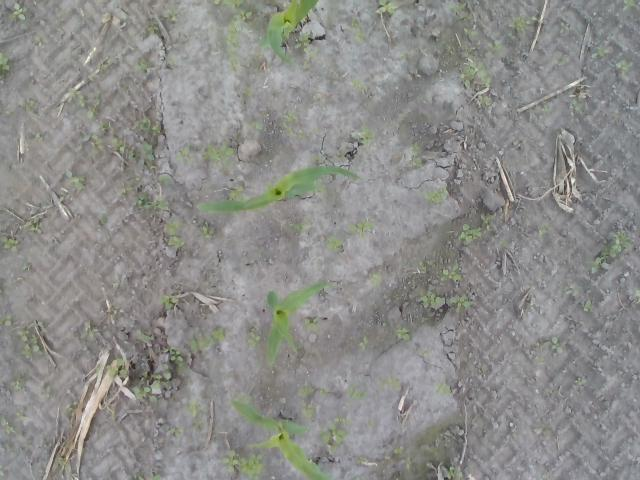Maize: (232, 397, 334, 480), (195, 167, 358, 214), (264, 279, 334, 369), (256, 0, 319, 65)
Weeds: (590, 232, 634, 272), (225, 9, 252, 71), (460, 58, 491, 106), (416, 288, 472, 312), (16, 320, 49, 360), (222, 449, 264, 480), (320, 417, 351, 456), (68, 86, 102, 120), (203, 142, 240, 167), (190, 326, 225, 352), (78, 130, 105, 160), (0, 410, 32, 434), (183, 400, 208, 430), (135, 192, 172, 212), (294, 30, 320, 58), (298, 384, 318, 418), (430, 263, 464, 282), (62, 168, 87, 193), (346, 216, 374, 237), (163, 220, 184, 248), (118, 176, 142, 200), (113, 134, 134, 161), (420, 184, 448, 204), (242, 110, 270, 130), (7, 1, 29, 25), (104, 355, 128, 377), (286, 111, 304, 138), (351, 126, 378, 144), (152, 364, 172, 388), (374, 373, 402, 390), (0, 48, 14, 80), (351, 16, 367, 44), (512, 15, 537, 32), (487, 31, 512, 48), (134, 118, 160, 134), (168, 346, 186, 369), (448, 3, 472, 20), (348, 382, 369, 401), (176, 142, 197, 161), (608, 58, 636, 72), (408, 142, 423, 168), (459, 223, 479, 241), (376, 0, 398, 16), (542, 335, 560, 354), (130, 383, 150, 400), (213, 0, 246, 10), (159, 292, 177, 310), (18, 96, 36, 114), (433, 382, 453, 398), (248, 326, 260, 352), (168, 423, 186, 440), (132, 56, 150, 73), (164, 0, 177, 23), (326, 234, 343, 250), (228, 184, 245, 200), (446, 465, 464, 480), (368, 270, 383, 288), (24, 217, 42, 232), (462, 27, 482, 40), (591, 47, 611, 60), (394, 324, 410, 340), (304, 317, 320, 333), (200, 224, 216, 240), (352, 78, 368, 94), (622, 0, 640, 14), (552, 52, 570, 66), (10, 374, 25, 390), (32, 32, 49, 46), (572, 96, 586, 113), (142, 144, 155, 162), (400, 455, 412, 474), (0, 313, 16, 327), (64, 400, 78, 416), (136, 328, 153, 341), (238, 392, 256, 404), (356, 334, 368, 352), (146, 19, 160, 34), (481, 212, 496, 226), (2, 236, 17, 250), (290, 222, 306, 234), (98, 119, 112, 132), (350, 471, 370, 480), (157, 174, 169, 186), (418, 258, 428, 272), (82, 326, 96, 336), (495, 239, 512, 247), (96, 63, 109, 73), (573, 376, 586, 386), (319, 388, 331, 398), (418, 347, 430, 357), (582, 300, 592, 312), (242, 85, 252, 97), (543, 103, 555, 113), (96, 216, 107, 226), (392, 446, 404, 455), (132, 471, 144, 480), (302, 60, 312, 70), (559, 22, 569, 32), (398, 50, 408, 60), (539, 224, 545, 240), (150, 472, 162, 480), (356, 457, 366, 466), (284, 0, 294, 8), (366, 420, 376, 428), (22, 264, 32, 272), (56, 457, 64, 465), (635, 287, 640, 296), (448, 224, 451, 230)
